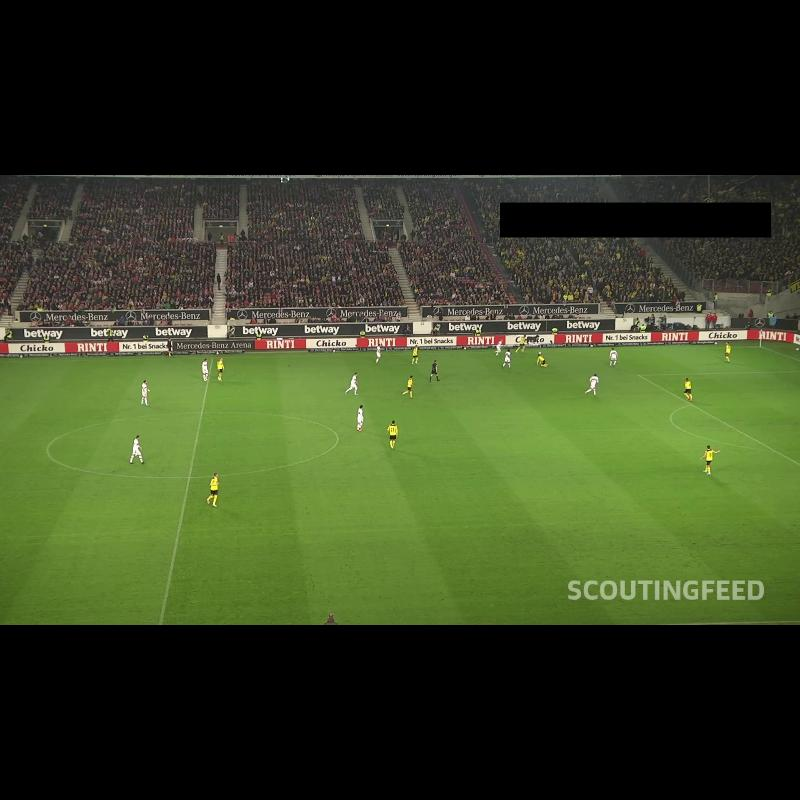cross_recipient_zone: (638, 371, 800, 464)
crossing_player_zone: (512, 346, 800, 378), (700, 500, 800, 584)
pitch: (0, 346, 800, 625)
